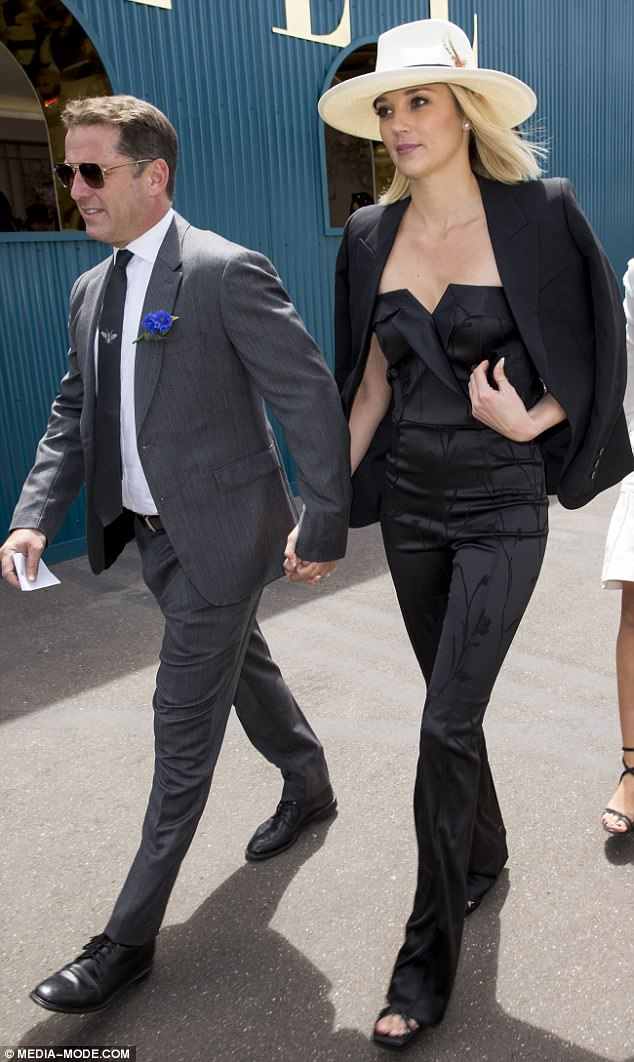Person: (318, 15, 632, 1047), (1, 92, 349, 1015)
